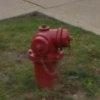Hydrant: (21, 17, 78, 89)
